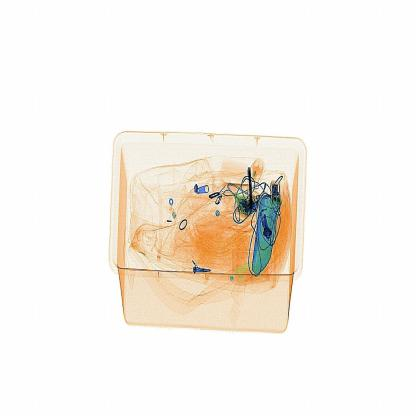knife: (241, 161, 262, 213)
